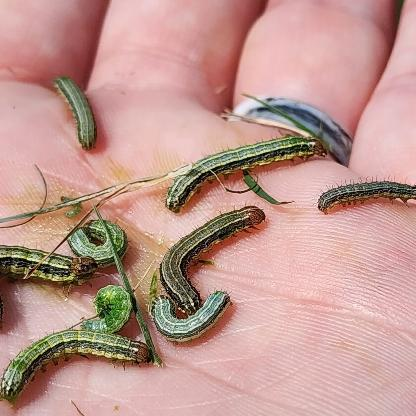Fall Armyworm Larvae: (158, 130, 330, 218), (151, 200, 273, 320), (0, 324, 156, 407), (0, 239, 106, 334), (148, 286, 236, 350), (308, 172, 416, 218), (64, 214, 136, 274), (50, 72, 102, 154), (78, 279, 139, 339)
